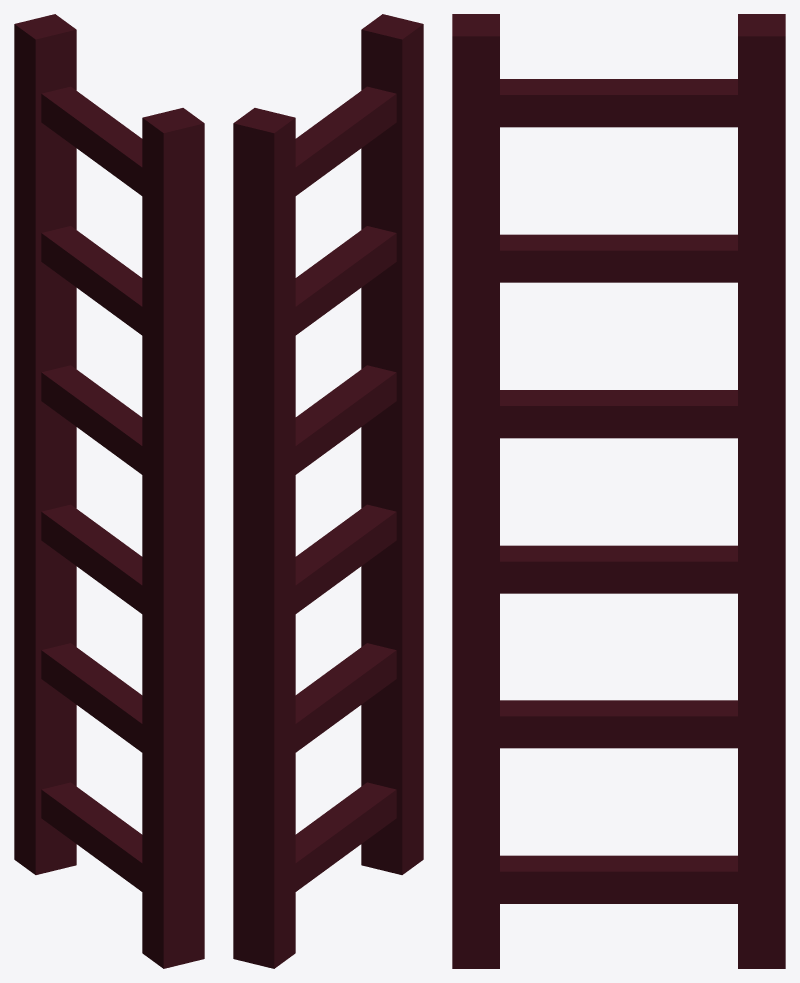
The model's file is Ladder.fbx.
3 renders of one model, left to right at view 1: azimuth 30°, elevation 25°; view 2: azimuth 150°, elevation 25°; view 3: azimuth 270°, elevation 25°, orthographic. The views are drawn at different scales.
Parts seen in each view (by area): view 1: Cube.006; view 2: Cube.006; view 3: Cube.006.
Part boxes in pixels (x1=…): Cube.006: x1=14, y1=14, x2=204, y2=968; Cube.006: x1=233, y1=14, x2=423, y2=968; Cube.006: x1=452, y1=14, x2=785, y2=968.
Size of the model in its own units: 61.17 by 1195 by 387.
